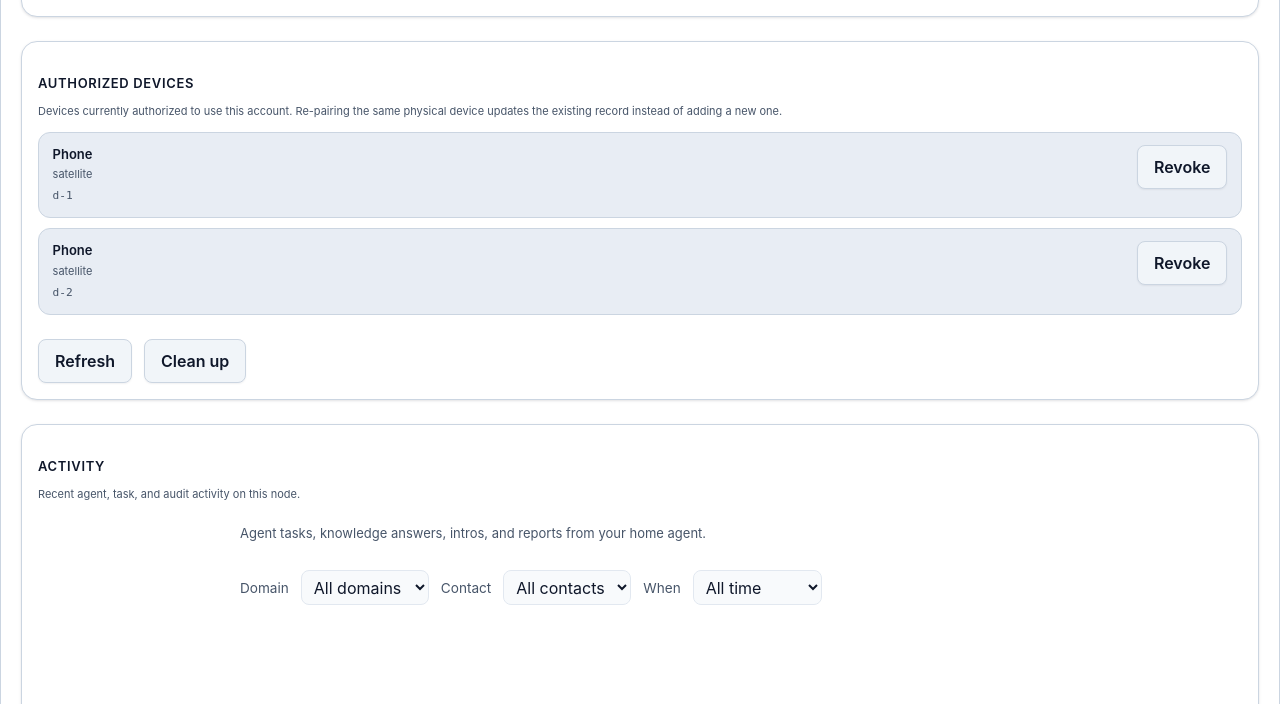
Scenario: SettingsAppTab (Language / Appearance / Authorized Devices / Activity) › shows an error message if the merge RPC fails
(page scrolled)
Expected: the 1st text "Phone" is shown, x1=53 y1=146 x2=92 y2=162
Click the button "Clean up" at (195, 361), box x1=144 y1=339 x2=246 y2=383
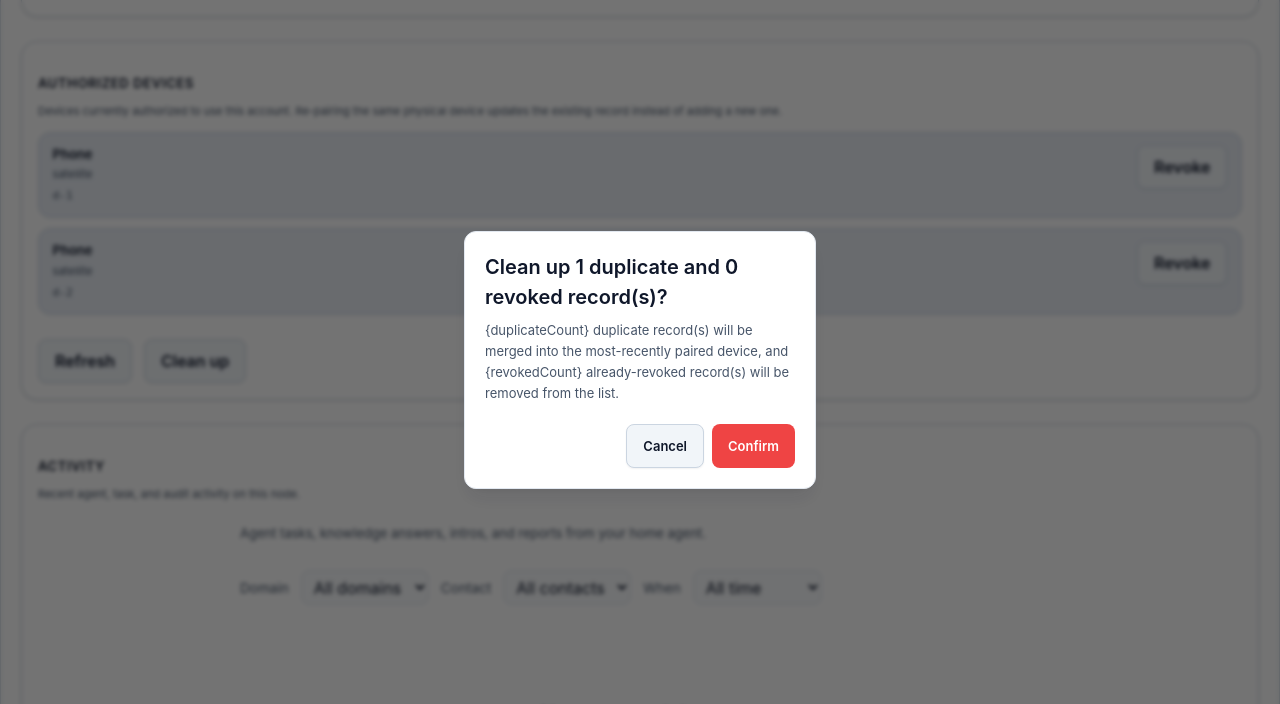
ConfirmDialog appears — click the confirm button
Click the button "Confirm" at (754, 446), box x1=712 y1=424 x2=795 y2=468
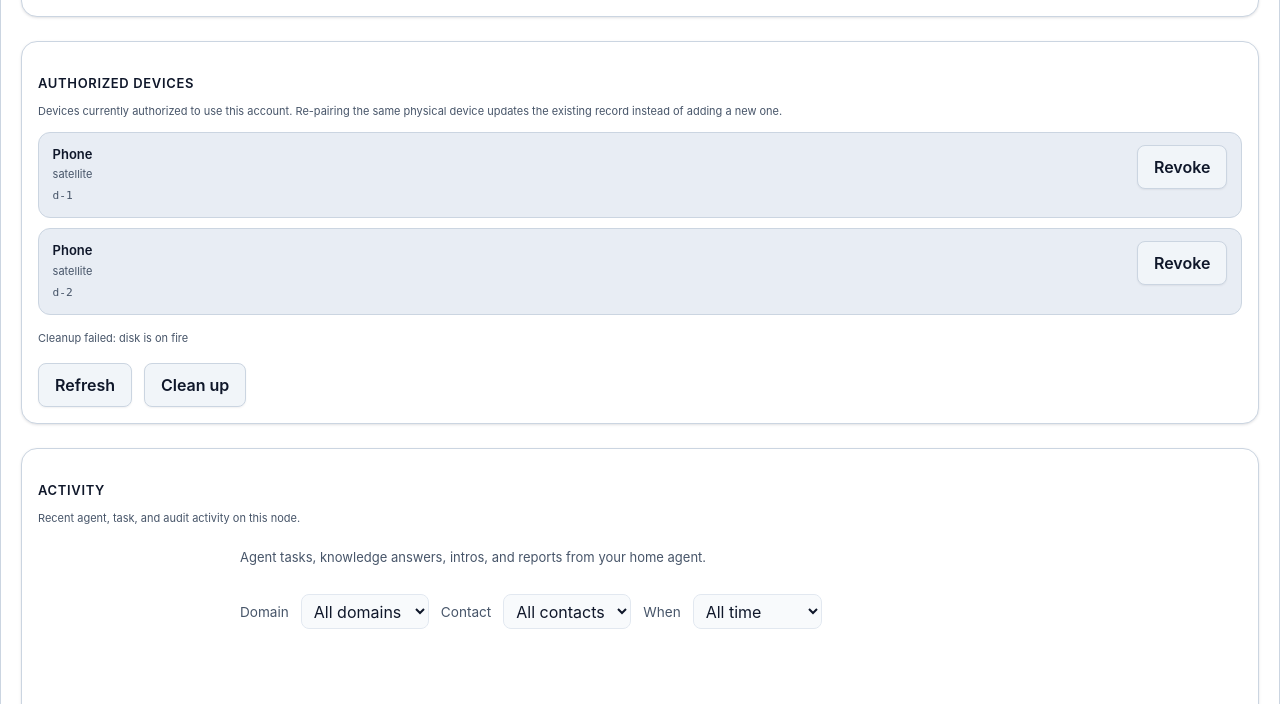
Result: the text "Cleanup failed: disk is on fire" is shown at x1=38 y1=331 x2=188 y2=345
